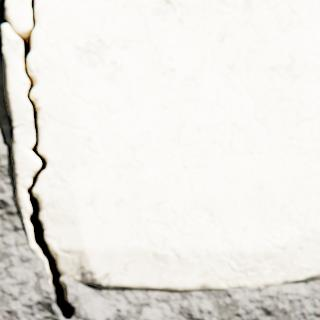broken_brick: (28, 0, 319, 291), (1, 24, 46, 266), (6, 0, 31, 34)
crack: (0, 0, 73, 319)
